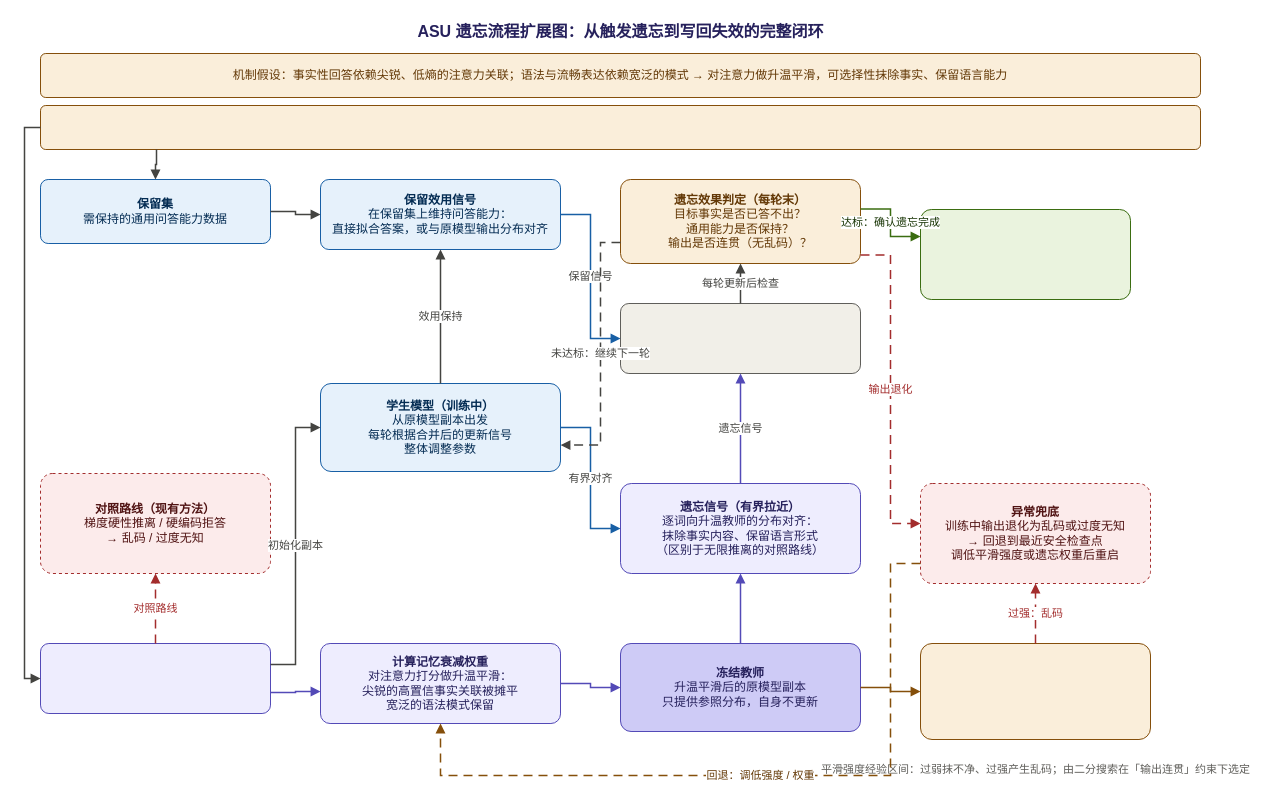
The diagram is 1268 pixels wide and 808 high, and some of its shapes have lost their labels. Here are the shapes that lost their labels. From the top down, the box of each, then its label:
(40, 104, 1200, 150): 触发遗忘条件：确认目标知识需要抹除 → 圈定遗忘范围（待抹除问答对）与能力保持范围（保留集），并准备一份原模型副本作为参照
(920, 208, 1130, 300): 遗忘后模型（写回） 遗忘问题得到连贯但无事实的输出 （非乱码、非拒答） 通用能力不受损
(620, 302, 860, 374): 联合目标 遗忘信号与保留信号按权重合成 单一更新，回传更新学生参数
(40, 642, 270, 714): 遗忘集 待抹除的目标问答对
(920, 642, 1150, 740): 平滑强度阈值判定 用升温教师试答遗忘问题， 检查输出连贯性： 连贯可用 → 采用当前强度 出现乱码 → 判定过强
